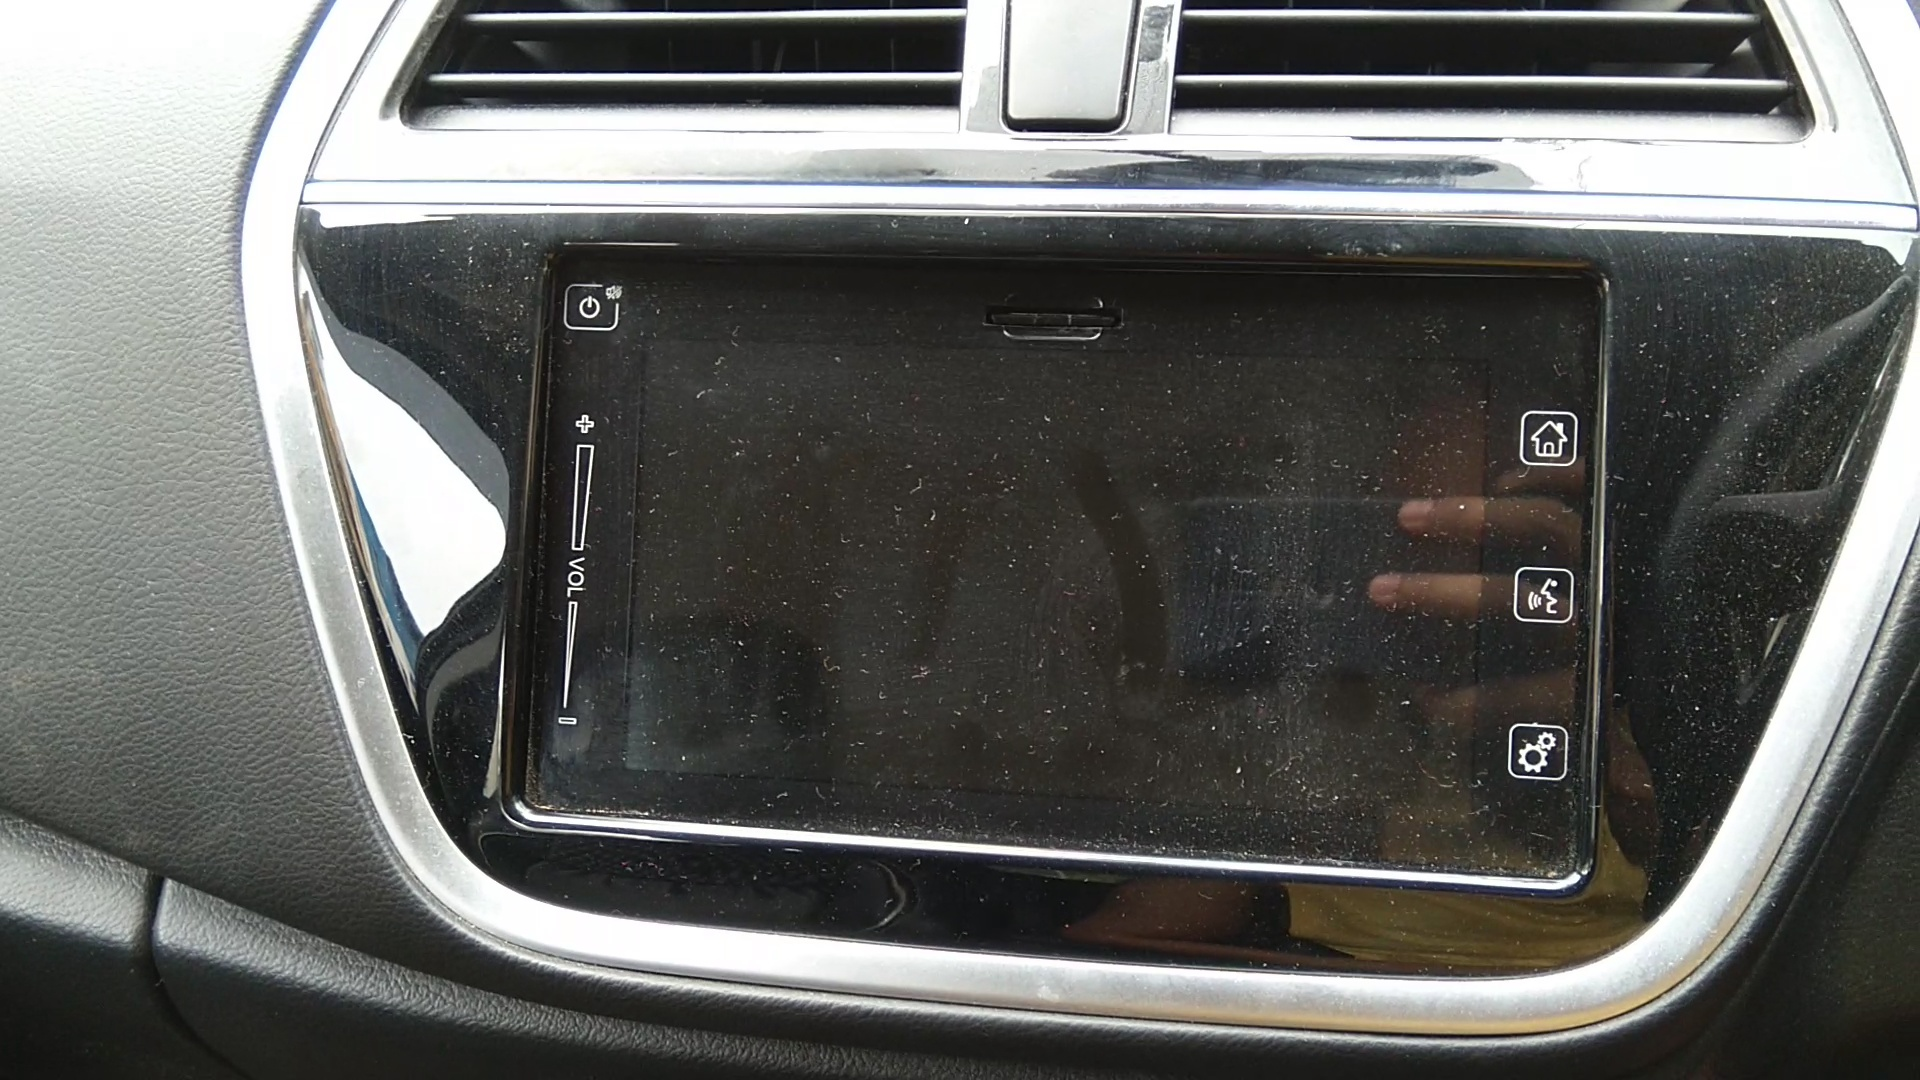touch_infotainment: (489, 220, 1634, 916)
